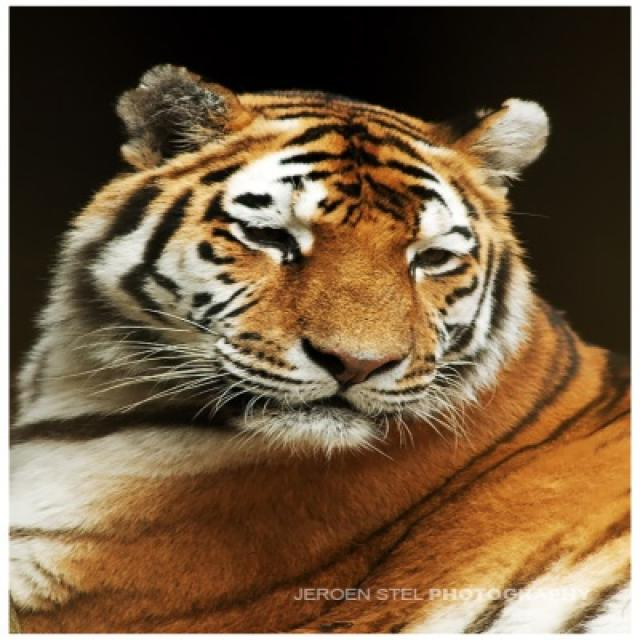Tiger: (14, 66, 629, 632)
